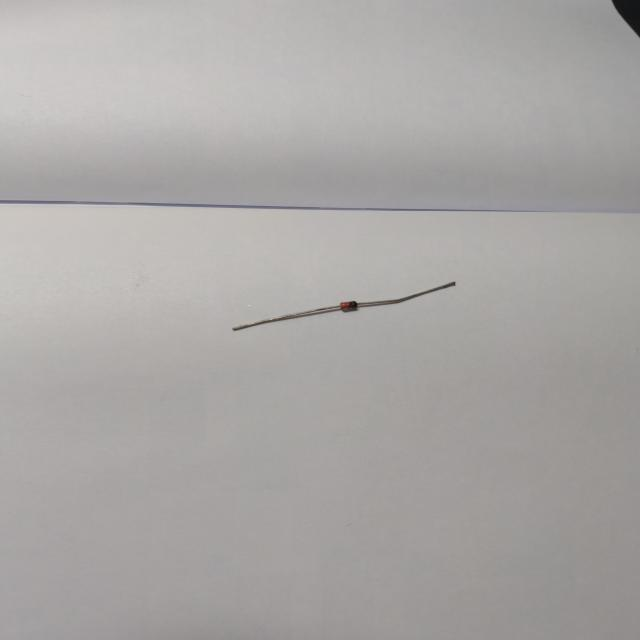resistor: (226, 272, 469, 344)
